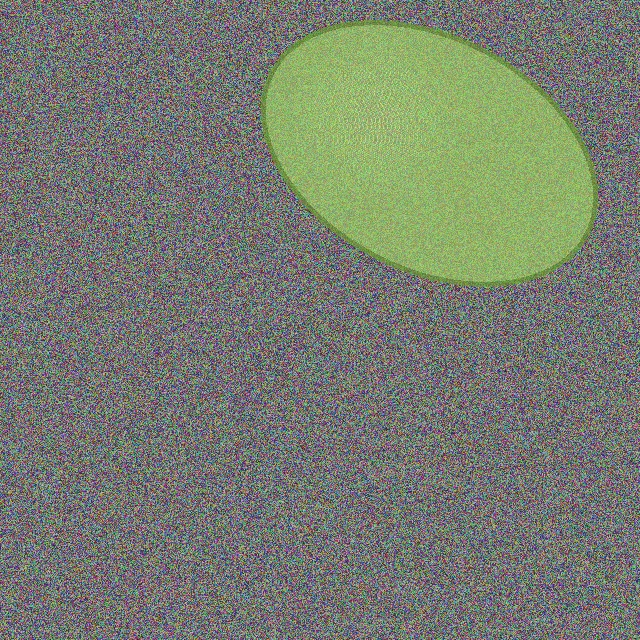lens: (263, 23, 595, 283)
